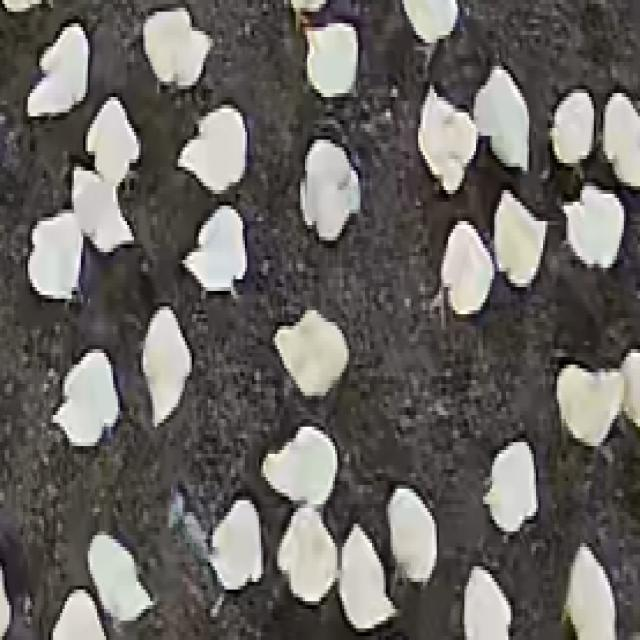broiler: (418, 85, 476, 190), (273, 310, 347, 392), (53, 349, 118, 442), (337, 524, 395, 628), (430, 221, 492, 314), (88, 531, 152, 621), (261, 427, 335, 504), (178, 105, 245, 190), (300, 140, 358, 237), (277, 504, 335, 601), (141, 306, 189, 423), (474, 66, 527, 171), (561, 182, 624, 268), (28, 23, 88, 112), (183, 206, 245, 291), (143, 8, 210, 85), (557, 365, 622, 442), (492, 190, 545, 283), (72, 167, 132, 248), (564, 543, 615, 636), (483, 442, 536, 531), (85, 97, 139, 182), (28, 209, 81, 295), (210, 500, 261, 586), (388, 485, 434, 578), (305, 23, 356, 93), (462, 566, 511, 636), (603, 93, 638, 186), (550, 89, 591, 163), (51, 590, 104, 636), (402, 0, 457, 43)
